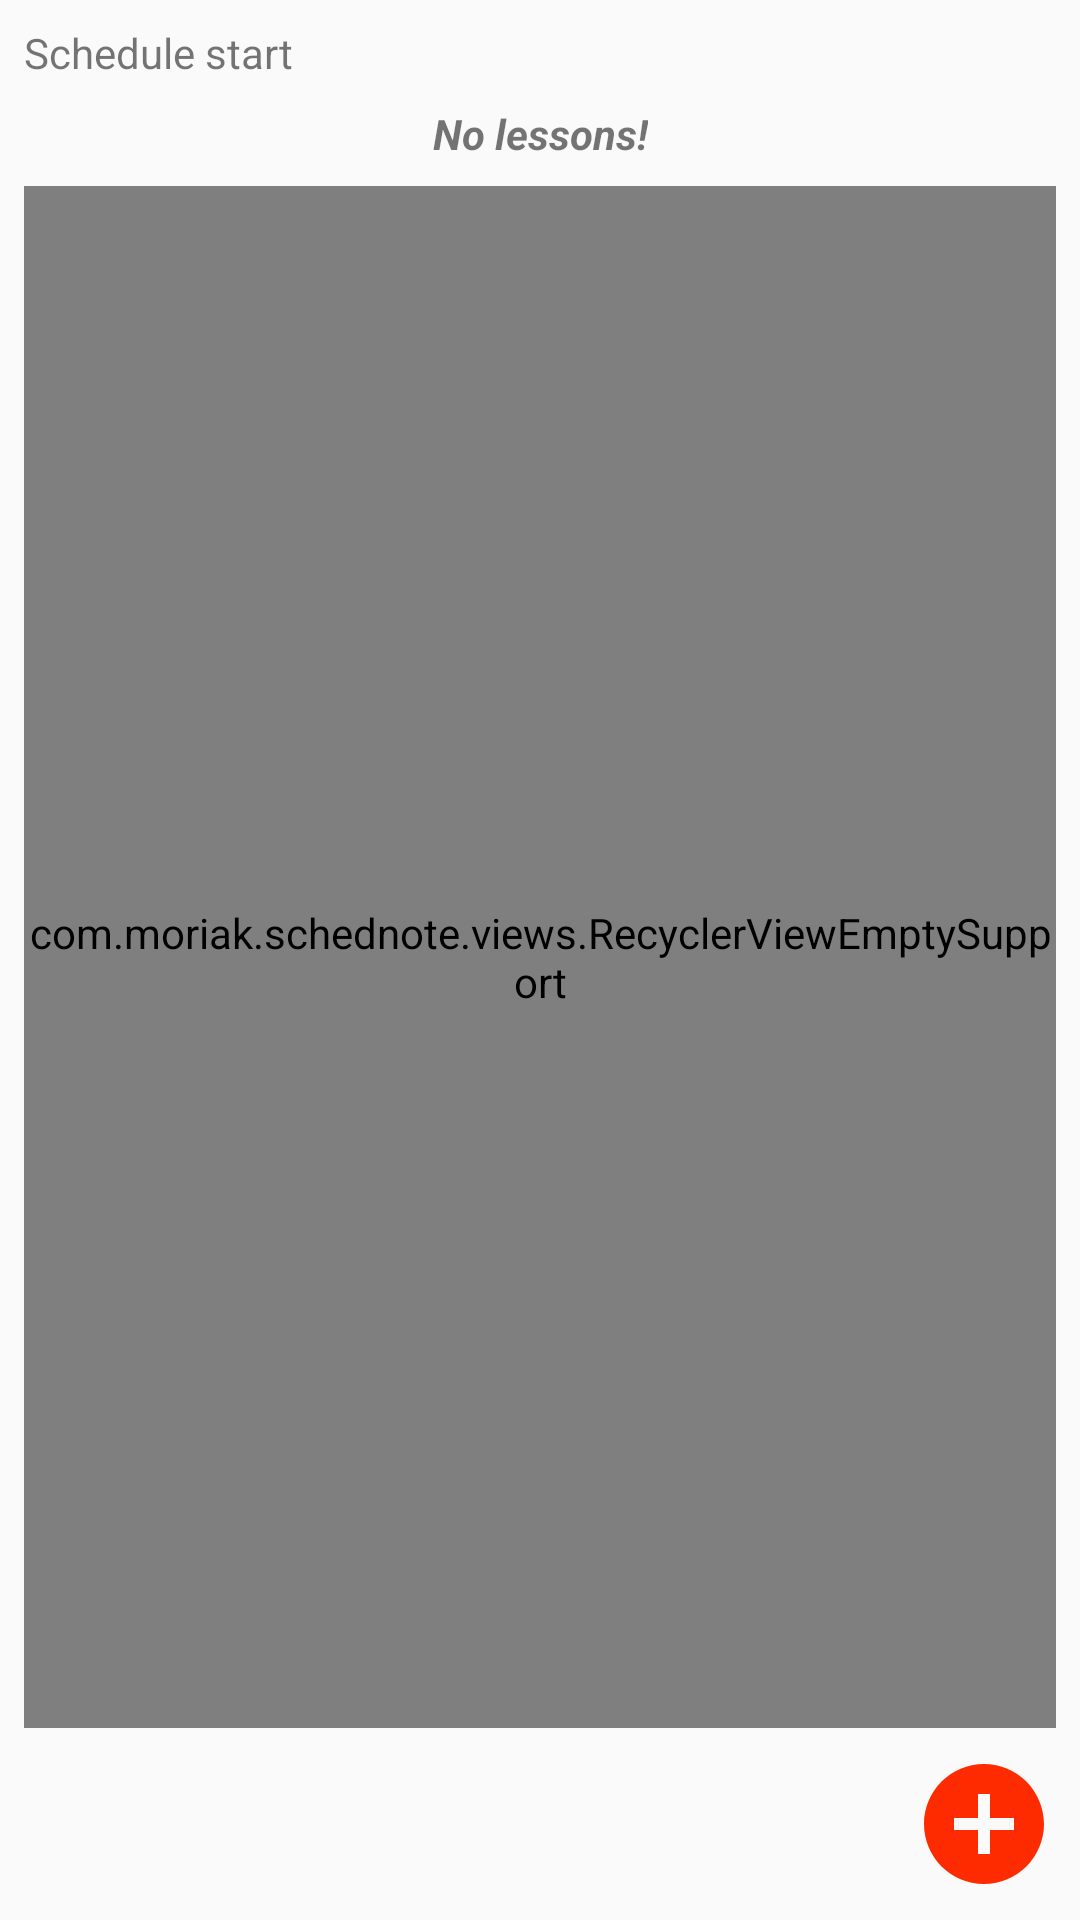

Screen size 1080 x 1920. Icon name, then its box in pixels as bbox(x1, y1, x2, y2):
Insert: bbox(924, 1764, 1044, 1884)
